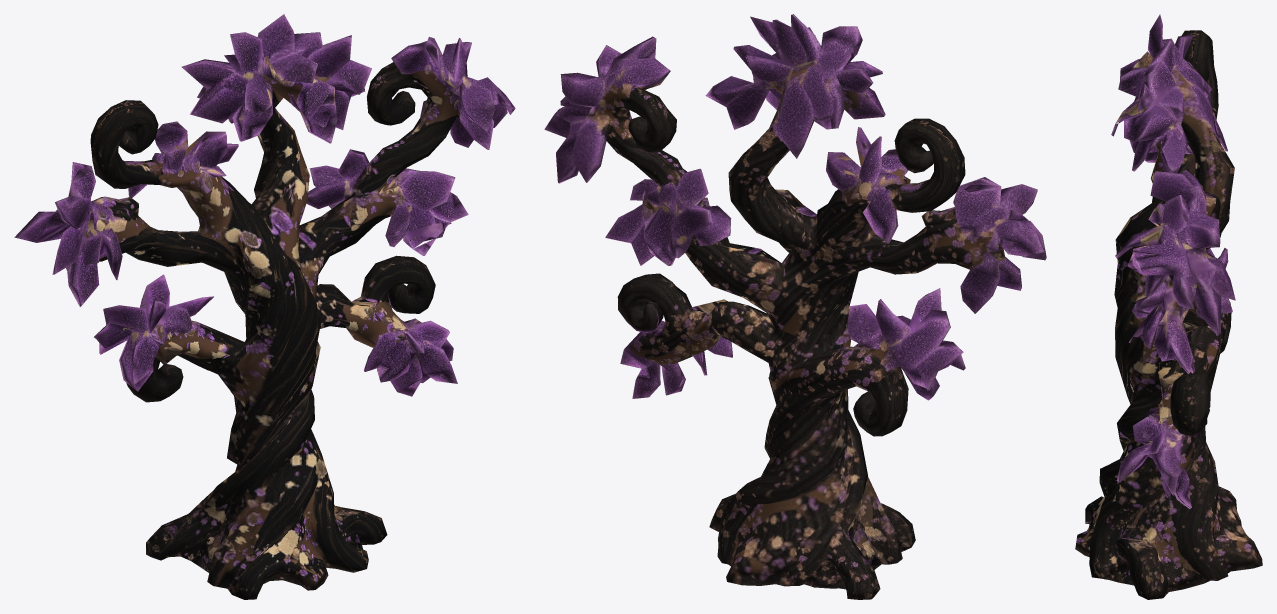
The model's file is AW-HW-TREE-001-v0.2.glb.
The picture shows the model from 3 angles, left to right: view 1: azimuth 30°, elevation 25°; view 2: azimuth 150°, elevation 25°; view 3: azimuth 270°, elevation 25°; orthographic projection. The views are drawn at different scales.
Parts seen in each view (by area): view 1: AW-HW-TREE-001_meter_ground_pivot; view 2: AW-HW-TREE-001_meter_ground_pivot; view 3: AW-HW-TREE-001_meter_ground_pivot.
Boxes of the visible parts, x1,y1,x2,y2 form: AW-HW-TREE-001_meter_ground_pivot: (14, 14, 515, 599); AW-HW-TREE-001_meter_ground_pivot: (544, 14, 1046, 599); AW-HW-TREE-001_meter_ground_pivot: (1075, 14, 1262, 599).
Size of the model in its own units: 3.87 by 4 by 1.31.
Materials: 1 (1 with a texture image).
